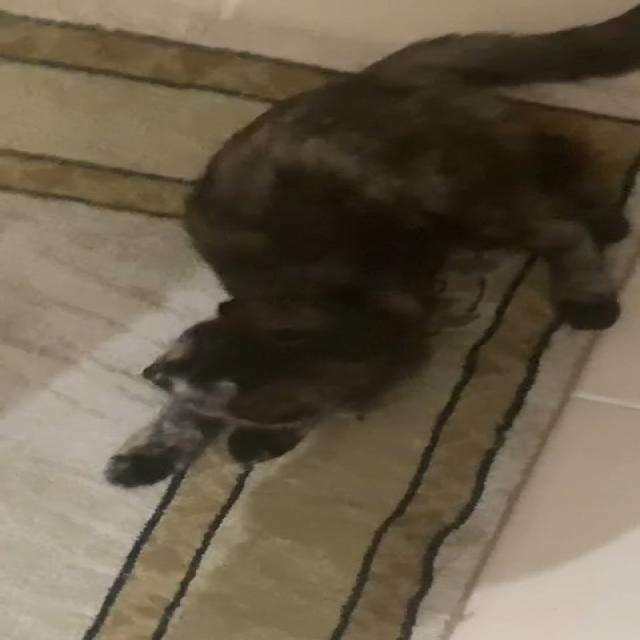authorized: (91, 3, 637, 638)
